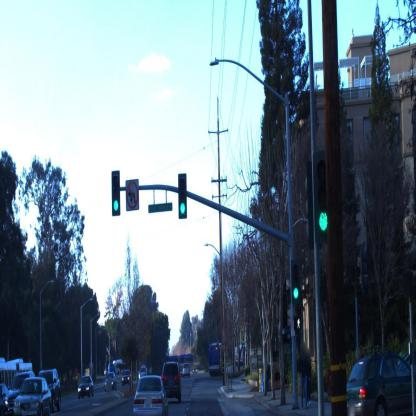bus: (0, 348, 36, 403), (208, 343, 222, 377)
car: (346, 352, 416, 416), (12, 378, 52, 416), (133, 376, 166, 415), (36, 370, 62, 414), (160, 361, 182, 402)
motorbike: (77, 374, 94, 400)
person: (295, 341, 314, 409)
sign: (124, 173, 141, 214)
traffic light: (309, 149, 331, 251), (290, 254, 301, 308), (178, 174, 189, 219), (111, 172, 121, 218), (295, 313, 303, 333)
